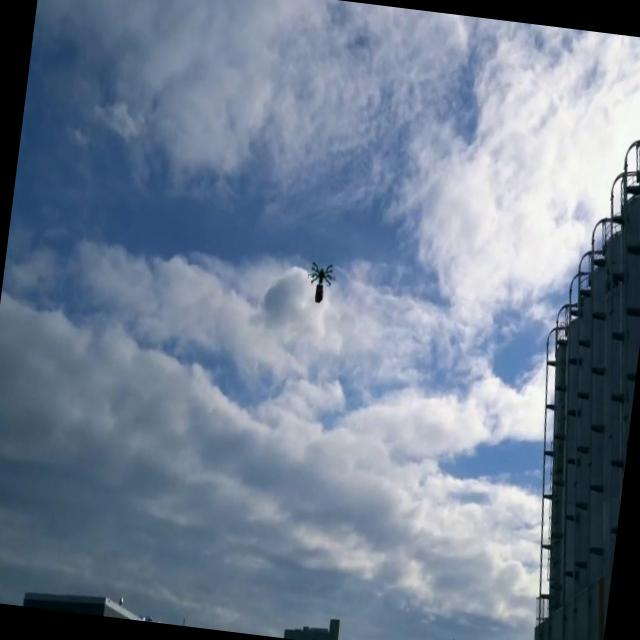drone: (302, 257, 336, 306)
